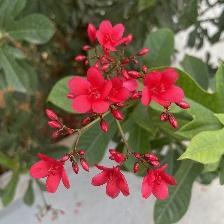jatropha: (68, 64, 114, 118), (141, 67, 186, 110), (31, 154, 74, 195), (141, 163, 181, 203), (91, 164, 133, 200), (97, 21, 131, 54)
